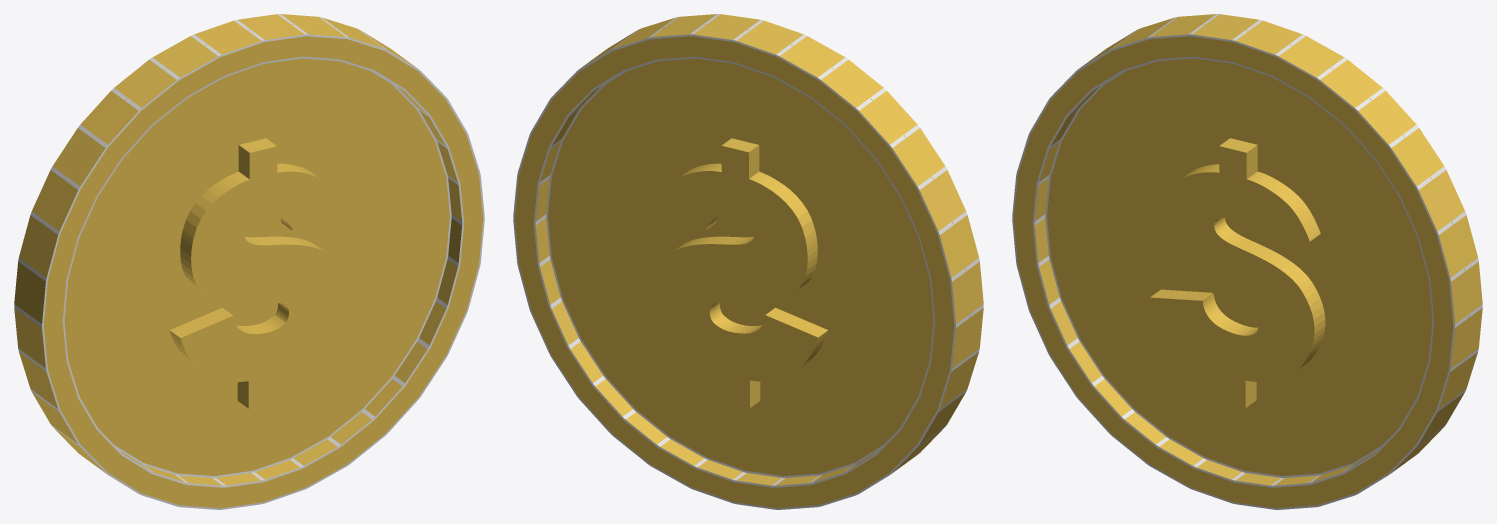
Rendered from kv_coin.glb.
The picture shows the model from 3 angles, left to right: view 1: azimuth 30°, elevation 25°; view 2: azimuth 150°, elevation 25°; view 3: azimuth 330°, elevation 25°; orthographic projection.
Parts seen in each view (by area): view 1: 圓柱體_圓柱體.001, Curve; view 2: 圓柱體_圓柱體.001, Curve; view 3: 圓柱體_圓柱體.001, Curve.
Boxes of the visible parts, x1,y1,x2,y2 form: 圓柱體_圓柱體.001: (14,14,484,509); Curve: (169,138,344,408); 圓柱體_圓柱體.001: (513,14,983,509); Curve: (653,138,828,407); 圓柱體_圓柱體.001: (1012,14,1482,509); Curve: (1150,138,1325,408).
Size of the model in its own units: 6.21 by 6.21 by 0.6846.
